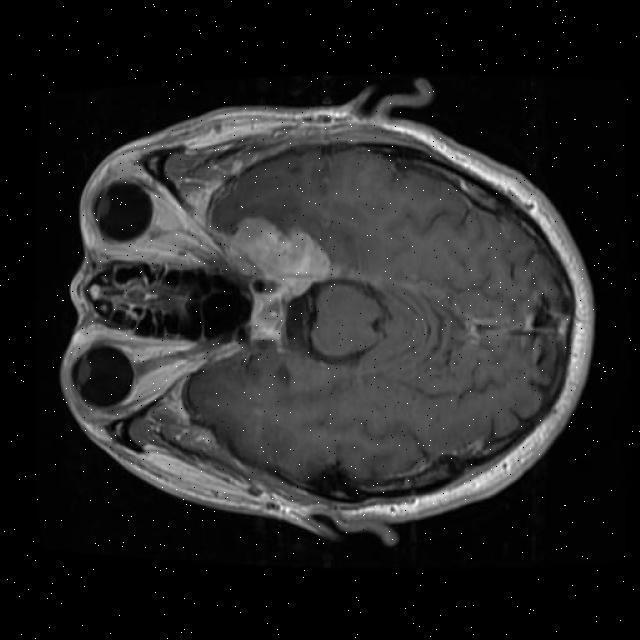Meningioma: (225, 218, 330, 339)
